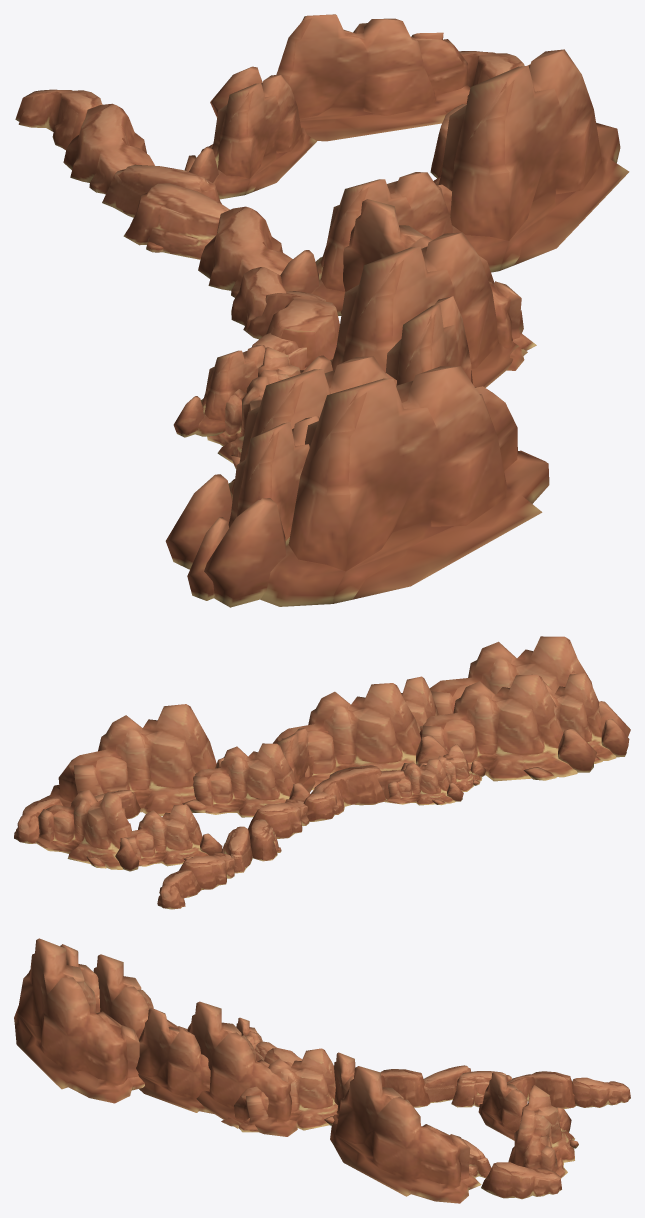
Rendered from rock_red06.FBX.
3 views of the same model, one above another, from view 1: azimuth 30°, elevation 25°; view 2: azimuth 150°, elevation 25°; view 3: azimuth 270°, elevation 25° (orthographic). The views are drawn at different scales.
Visible parts, largest first — view 1: rock_red06; view 2: rock_red06; view 3: rock_red06.
Boxes of the visible parts, x1,y1,x2,y2 form: rock_red06: [15, 14, 629, 607]; rock_red06: [14, 636, 630, 909]; rock_red06: [14, 938, 630, 1203].
Bounding box in the file's own units: 9402 × 2212 × 12023.
1 material, 1 textured.
